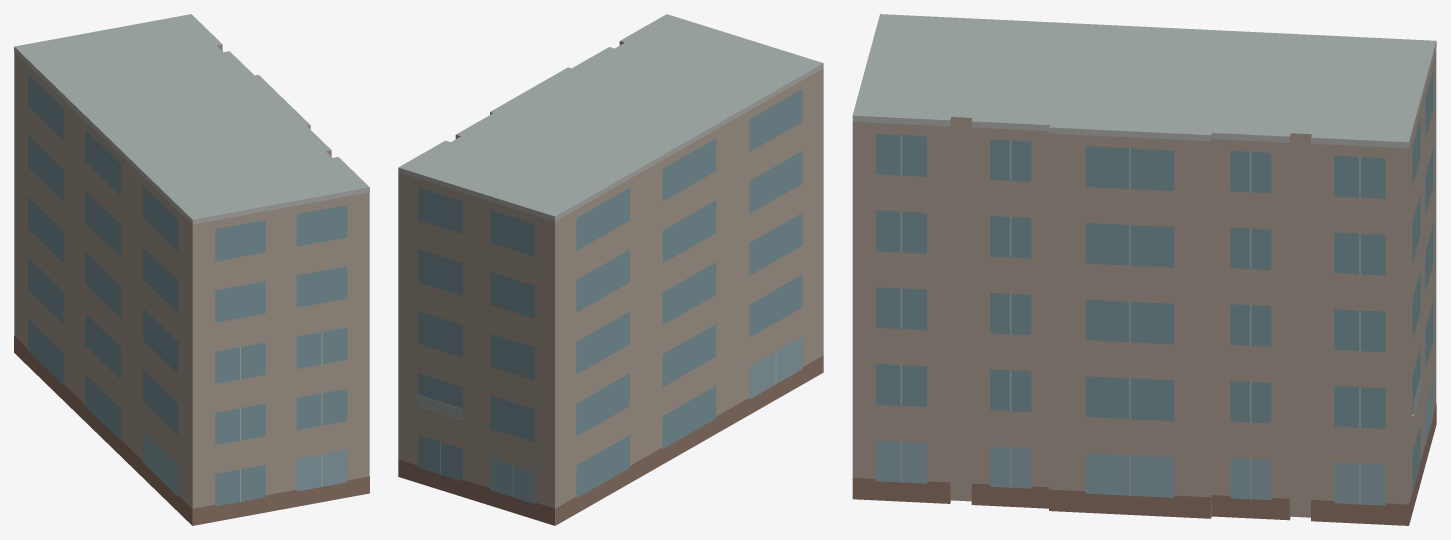
Rendered from survey-upis-32946346.glb.
3 views of the same model, side by side, from view 1: azimuth 30°, elevation 25°; view 2: azimuth 150°, elevation 25°; view 3: azimuth 270°, elevation 25° (orthographic). The views are drawn at different scales.
Visible parts, largest first — view 1: survey-upis-32946346.tmp; view 2: survey-upis-32946346.tmp; view 3: survey-upis-32946346.tmp.
Boxes of the visible parts, x1,y1,x2,y2 form: survey-upis-32946346.tmp: (14, 14, 369, 525); survey-upis-32946346.tmp: (398, 14, 823, 525); survey-upis-32946346.tmp: (852, 14, 1436, 525).
Size of the model in its own units: 11.06 by 15.4 by 21.26.
